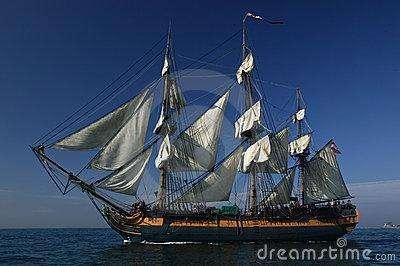fanchuan: (24, 4, 365, 239)
